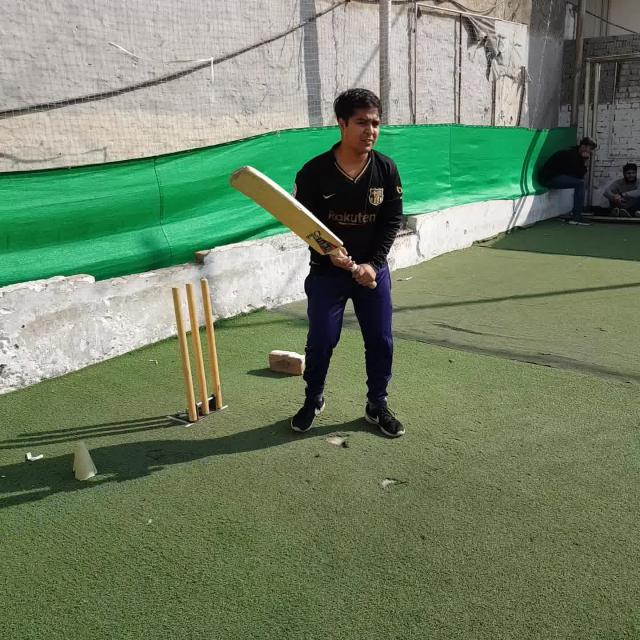bat: (230, 167, 377, 288)
